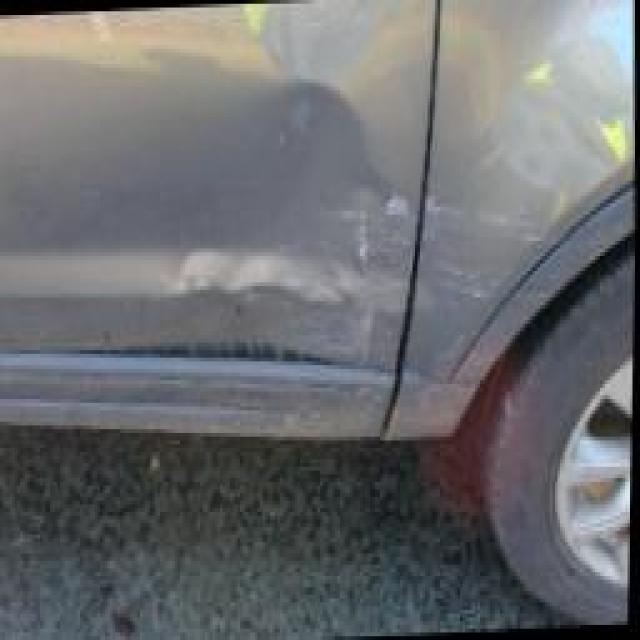Door: (122, 184, 432, 456)
Fender: (400, 0, 639, 429)
